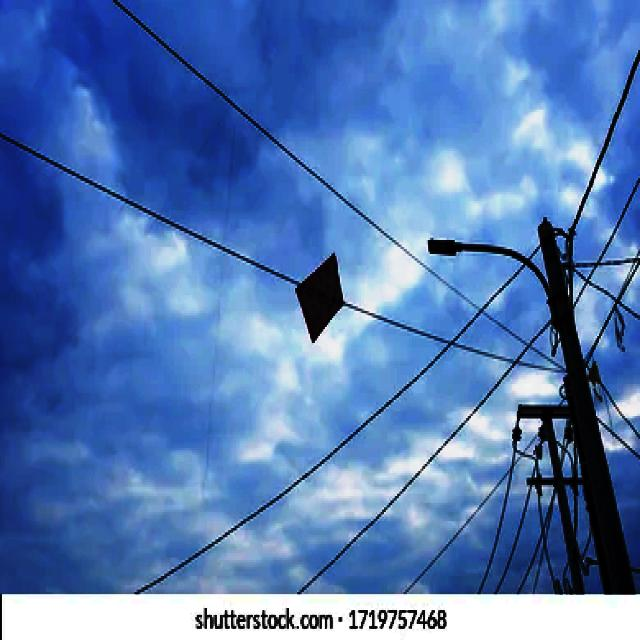obstruction: (295, 254, 341, 341)
poles: (428, 219, 632, 592)
wires: (112, 0, 558, 592), (0, 128, 299, 283), (553, 48, 638, 459), (402, 407, 543, 592), (515, 489, 553, 592)
